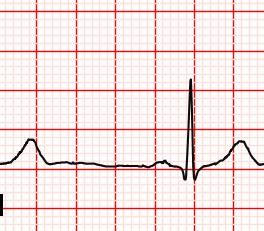LVH: (206, 135, 260, 170)
